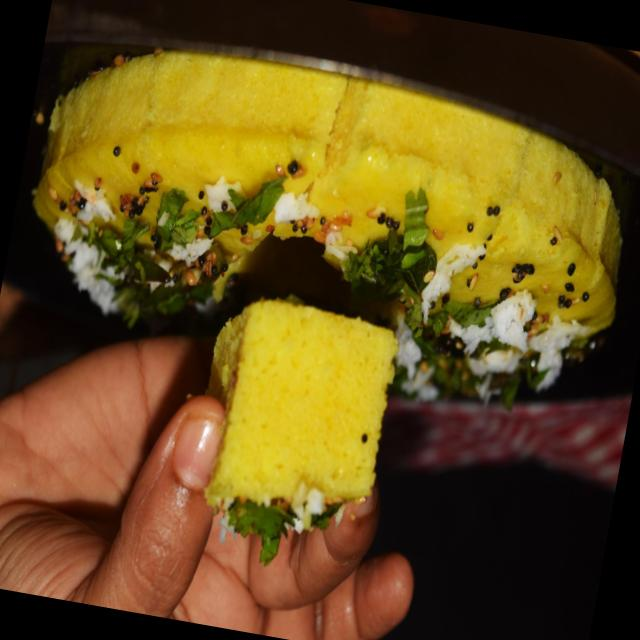dhokla: (22, 23, 634, 398), (190, 287, 412, 538)
